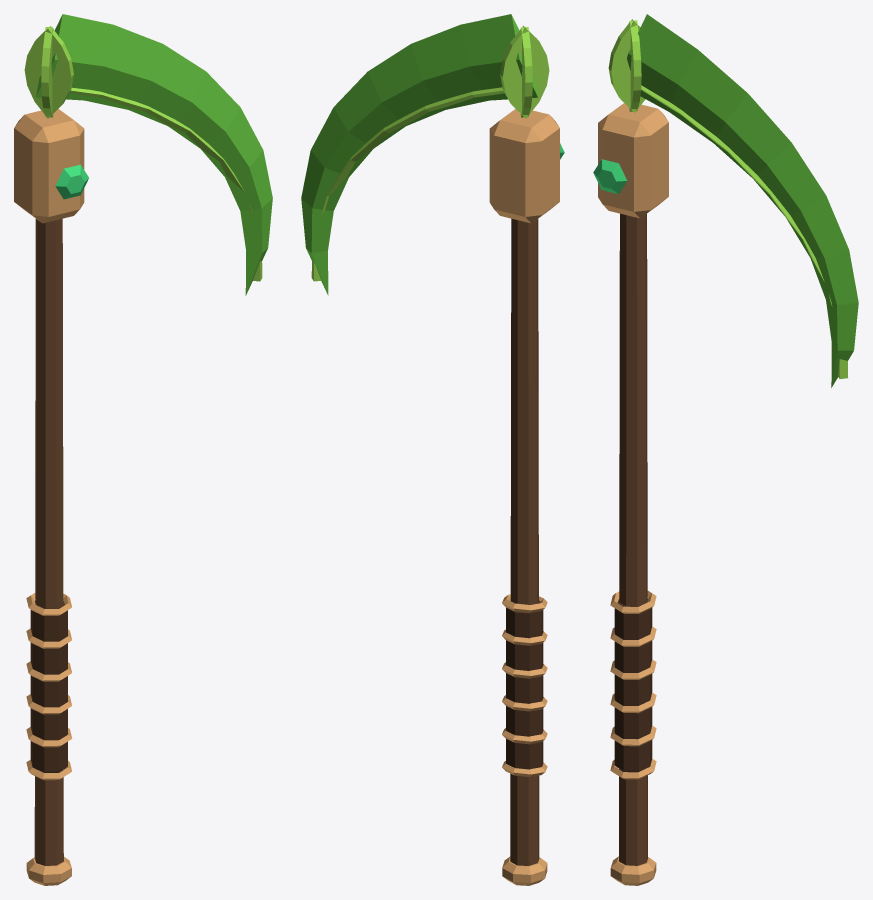
File: NatureScythe.fbx
3 renders of one model, left to right at view 1: azimuth 30°, elevation 25°; view 2: azimuth 150°, elevation 25°; view 3: azimuth 330°, elevation 25°, orthographic.
Visible parts, largest first — view 1: NatureScythe; view 2: NatureScythe; view 3: NatureScythe.
Part boxes in pixels (x1,y1,x2,y2): NatureScythe: (14,14,272,885); NatureScythe: (301,14,564,885); NatureScythe: (593,14,858,885).
Size of the model in its own units: 1.91 by 6.3 by 0.55.
1 material, 1 textured.
